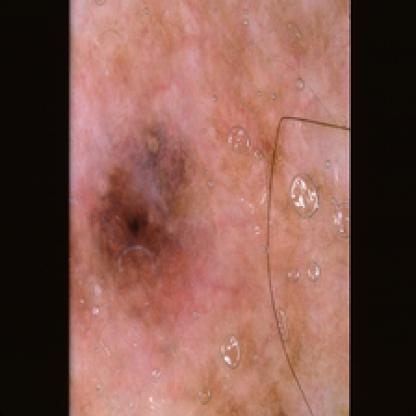malignant: (96, 117, 202, 308)
